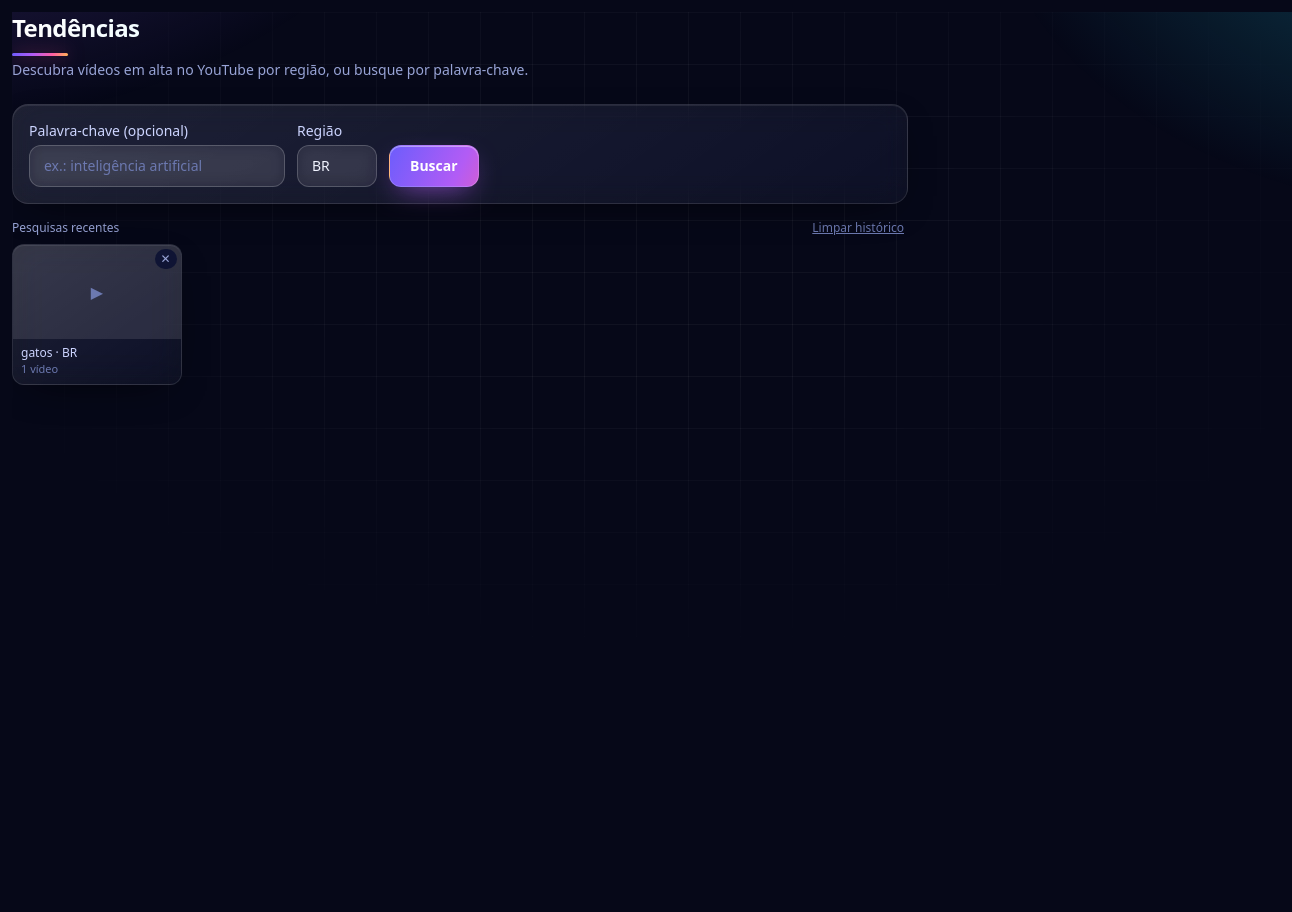
Test: TrendsPage › renderiza buscas recentes e permite clicar pra rebuscar
Click the button "▶ gatos · BR" at (97, 303), box [13, 245, 181, 361]
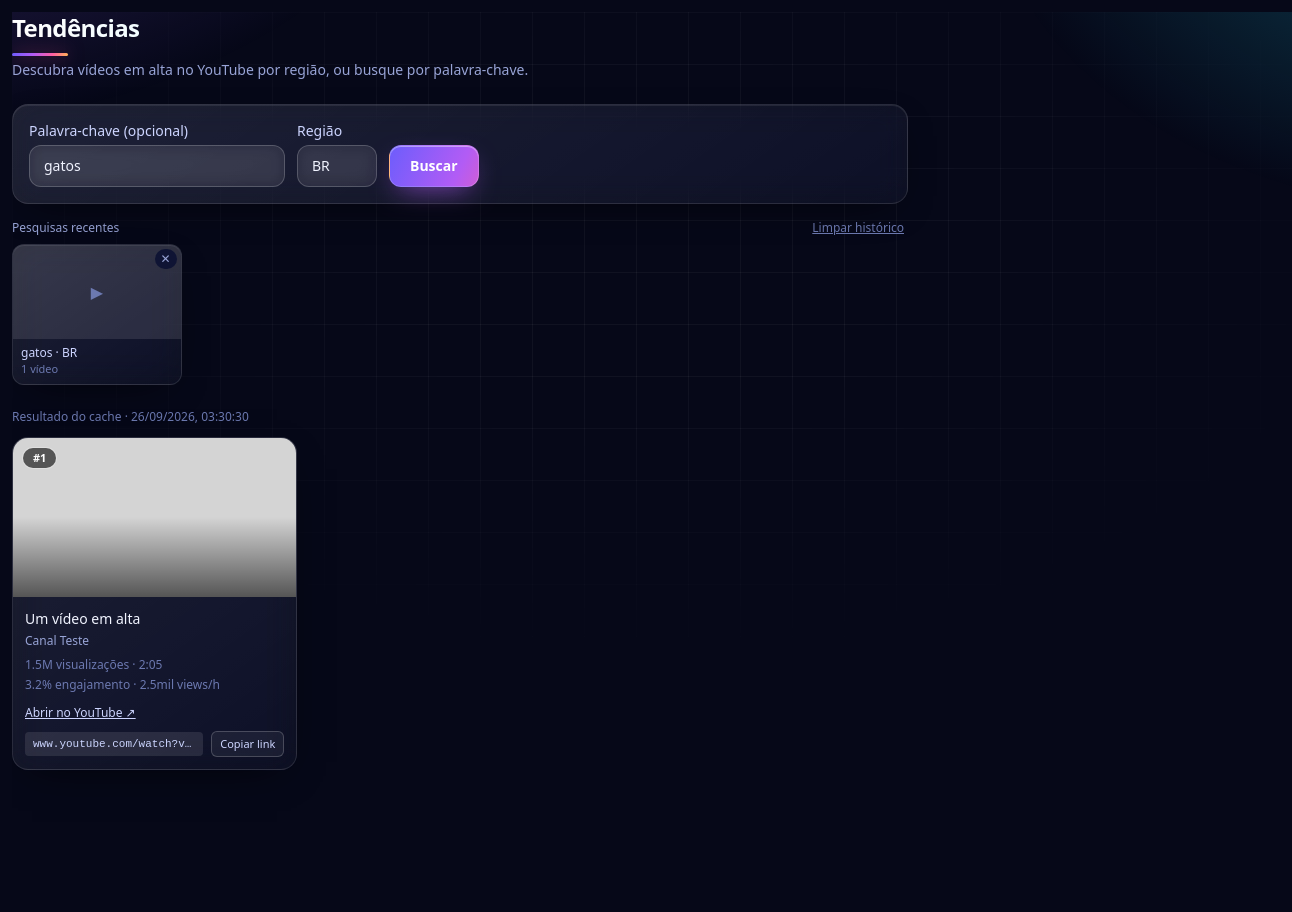
Expected: the text "Um vídeo em alta" is shown, [25, 609, 140, 628]
